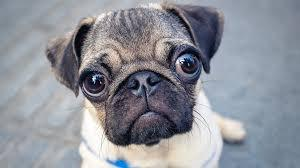Dog: (46, 0, 225, 143)
